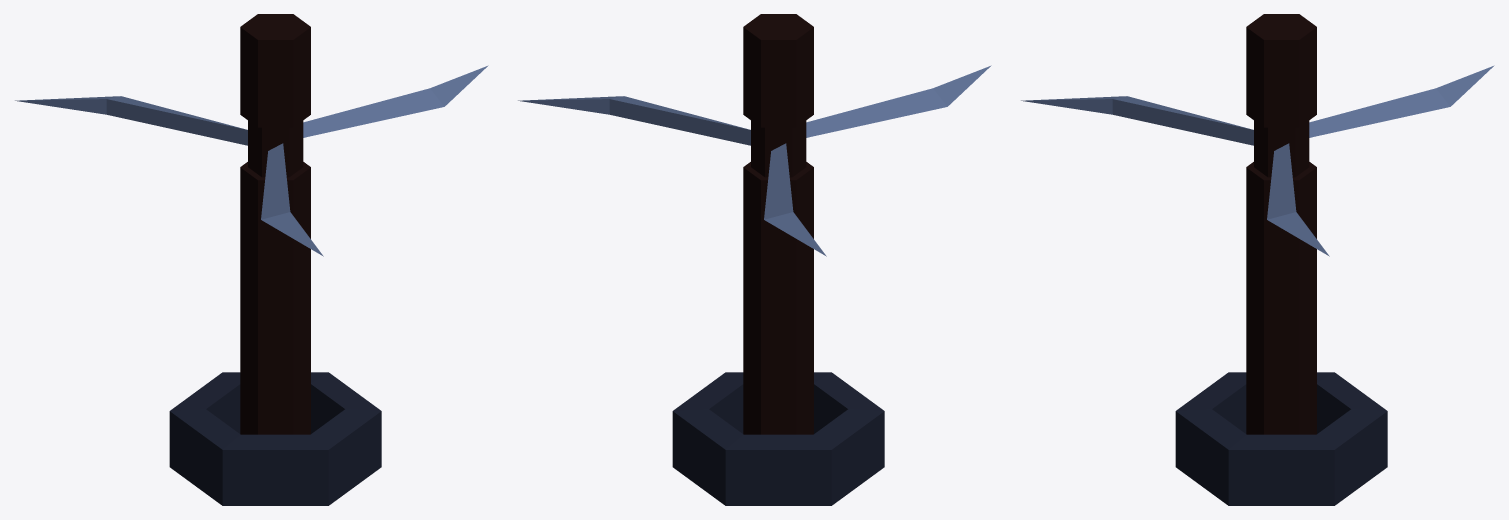
The model's file is bladetrap.obj.
3 renders of one model, left to right at view 1: azimuth 30°, elevation 25°; view 2: azimuth 150°, elevation 25°; view 3: azimuth 270°, elevation 25°, orthographic.
Parts seen in each view (by area): view 1: blade_trap, blade_trap_base; view 2: blade_trap, blade_trap_base; view 3: blade_trap, blade_trap_base.
Boxes of the visible parts, left/top/right/bottom form: blade_trap: left=15, top=14, right=488, bottom=434; blade_trap_base: left=169, top=372, right=381, bottom=505; blade_trap: left=518, top=14, right=991, bottom=434; blade_trap_base: left=672, top=372, right=884, bottom=505; blade_trap: left=1021, top=14, right=1494, bottom=434; blade_trap_base: left=1175, top=372, right=1387, bottom=505.
Size of the model in its own units: 1.48 by 1.58 by 1.55.
